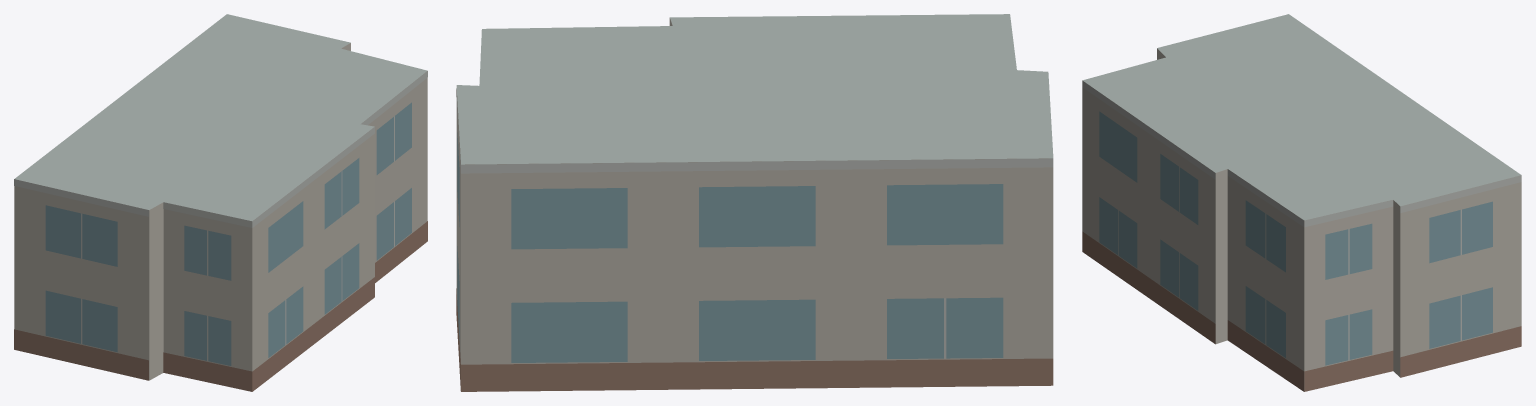
Rendered from survey-upis-32606046.glb.
3 renders of one model, left to right at view 1: azimuth 30°, elevation 25°; view 2: azimuth 150°, elevation 25°; view 3: azimuth 270°, elevation 25°, orthographic. The views are drawn at different scales.
Visible parts, largest first — view 1: survey-upis-32606046.tmp; view 2: survey-upis-32606046.tmp; view 3: survey-upis-32606046.tmp.
Boxes of the visible parts, x1,y1,x2,y2 form: survey-upis-32606046.tmp: (14,14,427,391); survey-upis-32606046.tmp: (456,14,1053,391); survey-upis-32606046.tmp: (1082,14,1521,391).
Size of the model in its own units: 15.77 by 6.1 by 14.18.
